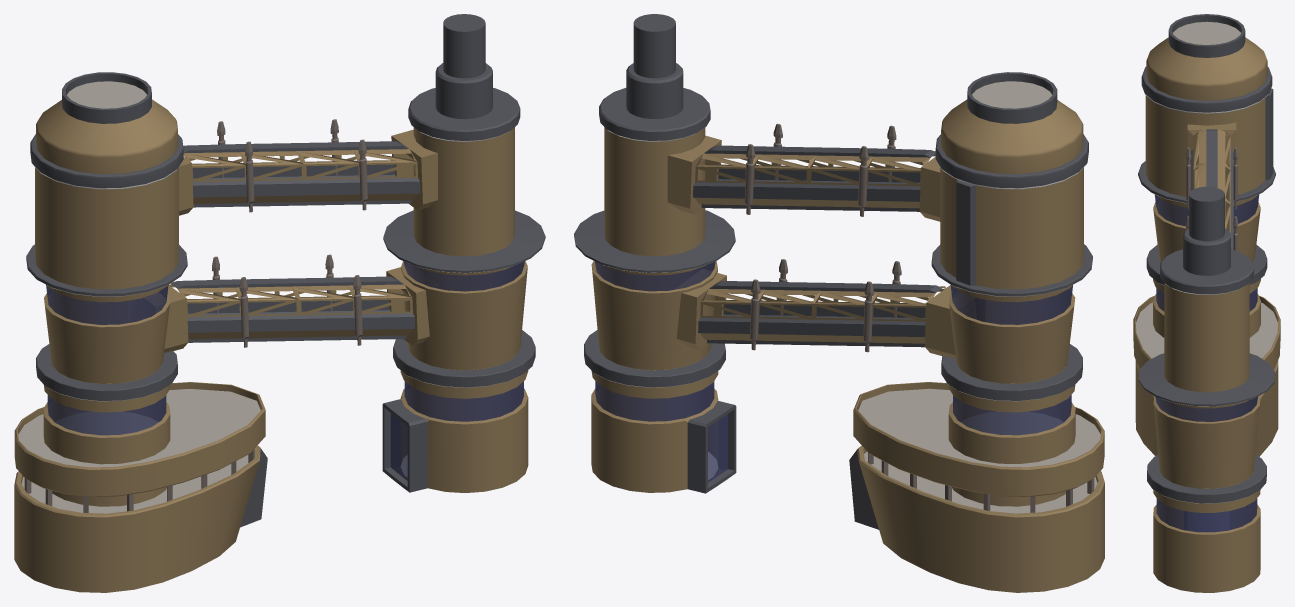
Rendered from MOD_HBuilding.fbx.
3 views of the same model, side by side, from view 1: azimuth 30°, elevation 25°; view 2: azimuth 150°, elevation 25°; view 3: azimuth 270°, elevation 25° (orthographic). The views are drawn at different scales.
Parts seen in each view (by area): view 1: MOD_HBuilding; view 2: MOD_HBuilding; view 3: MOD_HBuilding.
Boxes of the visible parts, x1,y1,x2,y2 form: MOD_HBuilding: (14, 14, 545, 592); MOD_HBuilding: (574, 14, 1104, 592); MOD_HBuilding: (1133, 14, 1280, 592).
Bounding box in the file's own units: 19015 × 16583 × 5611.
